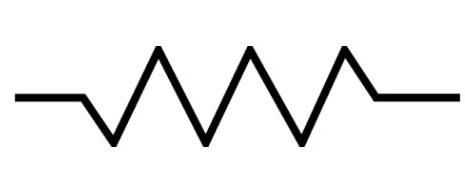resistor: (71, 29, 409, 168)
